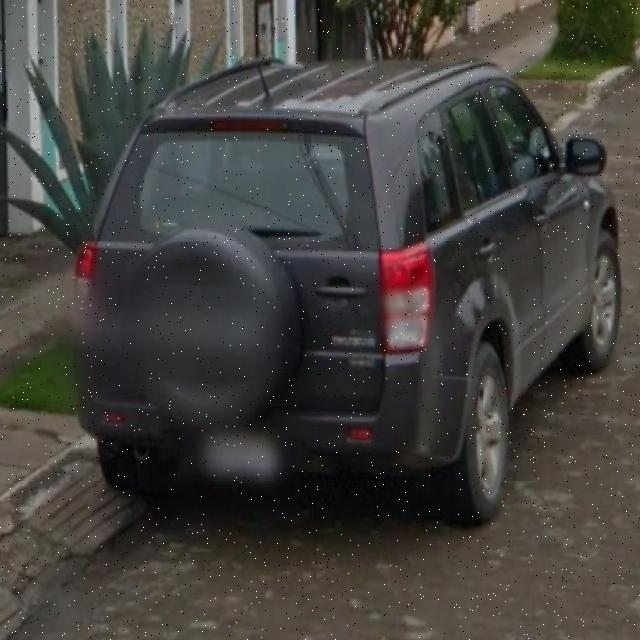car: (68, 48, 616, 520)
